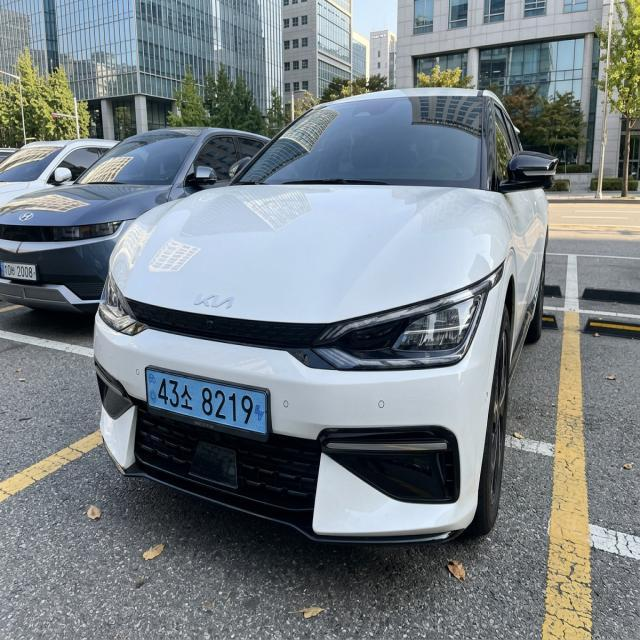car: (135, 356, 282, 453)
carev: (254, 389, 268, 438), (145, 368, 158, 412)
